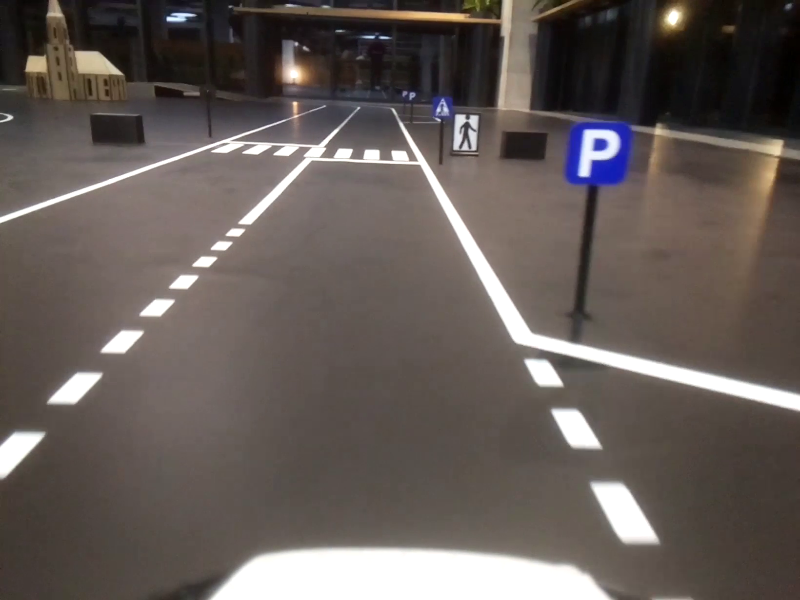park: (566, 123, 631, 186)
